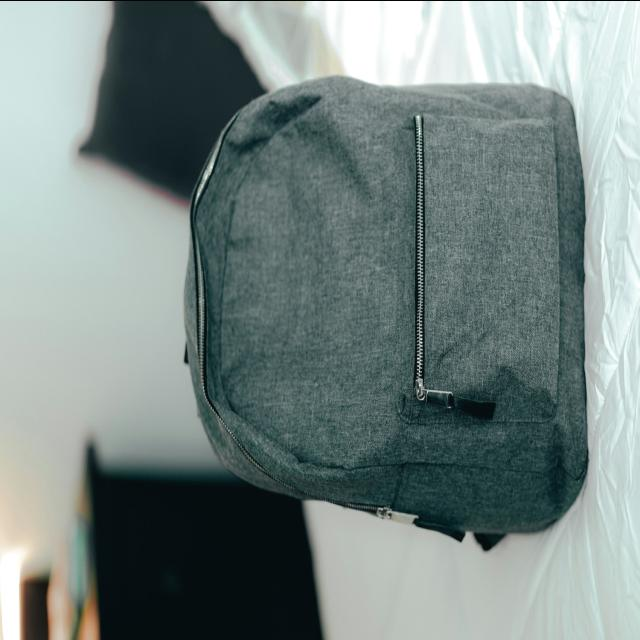backpack: (183, 75, 589, 551)
